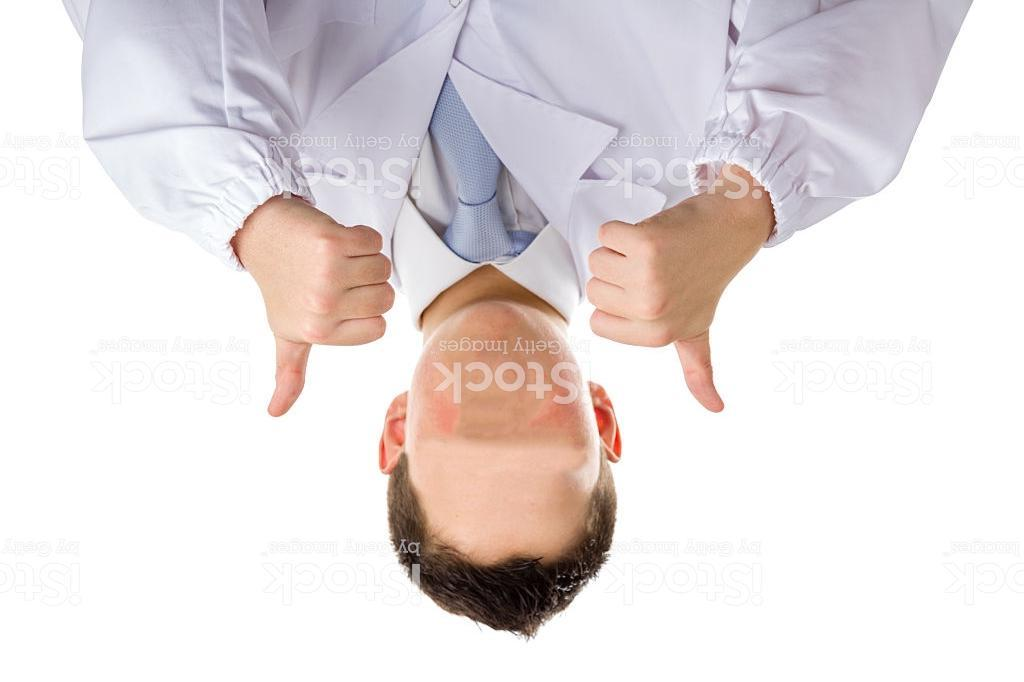thumbsdown: (586, 216, 726, 416), (267, 221, 396, 420)
